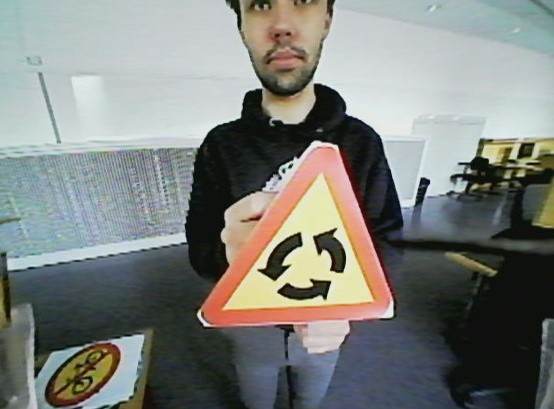roundabout_warning: (192, 141, 397, 331)
